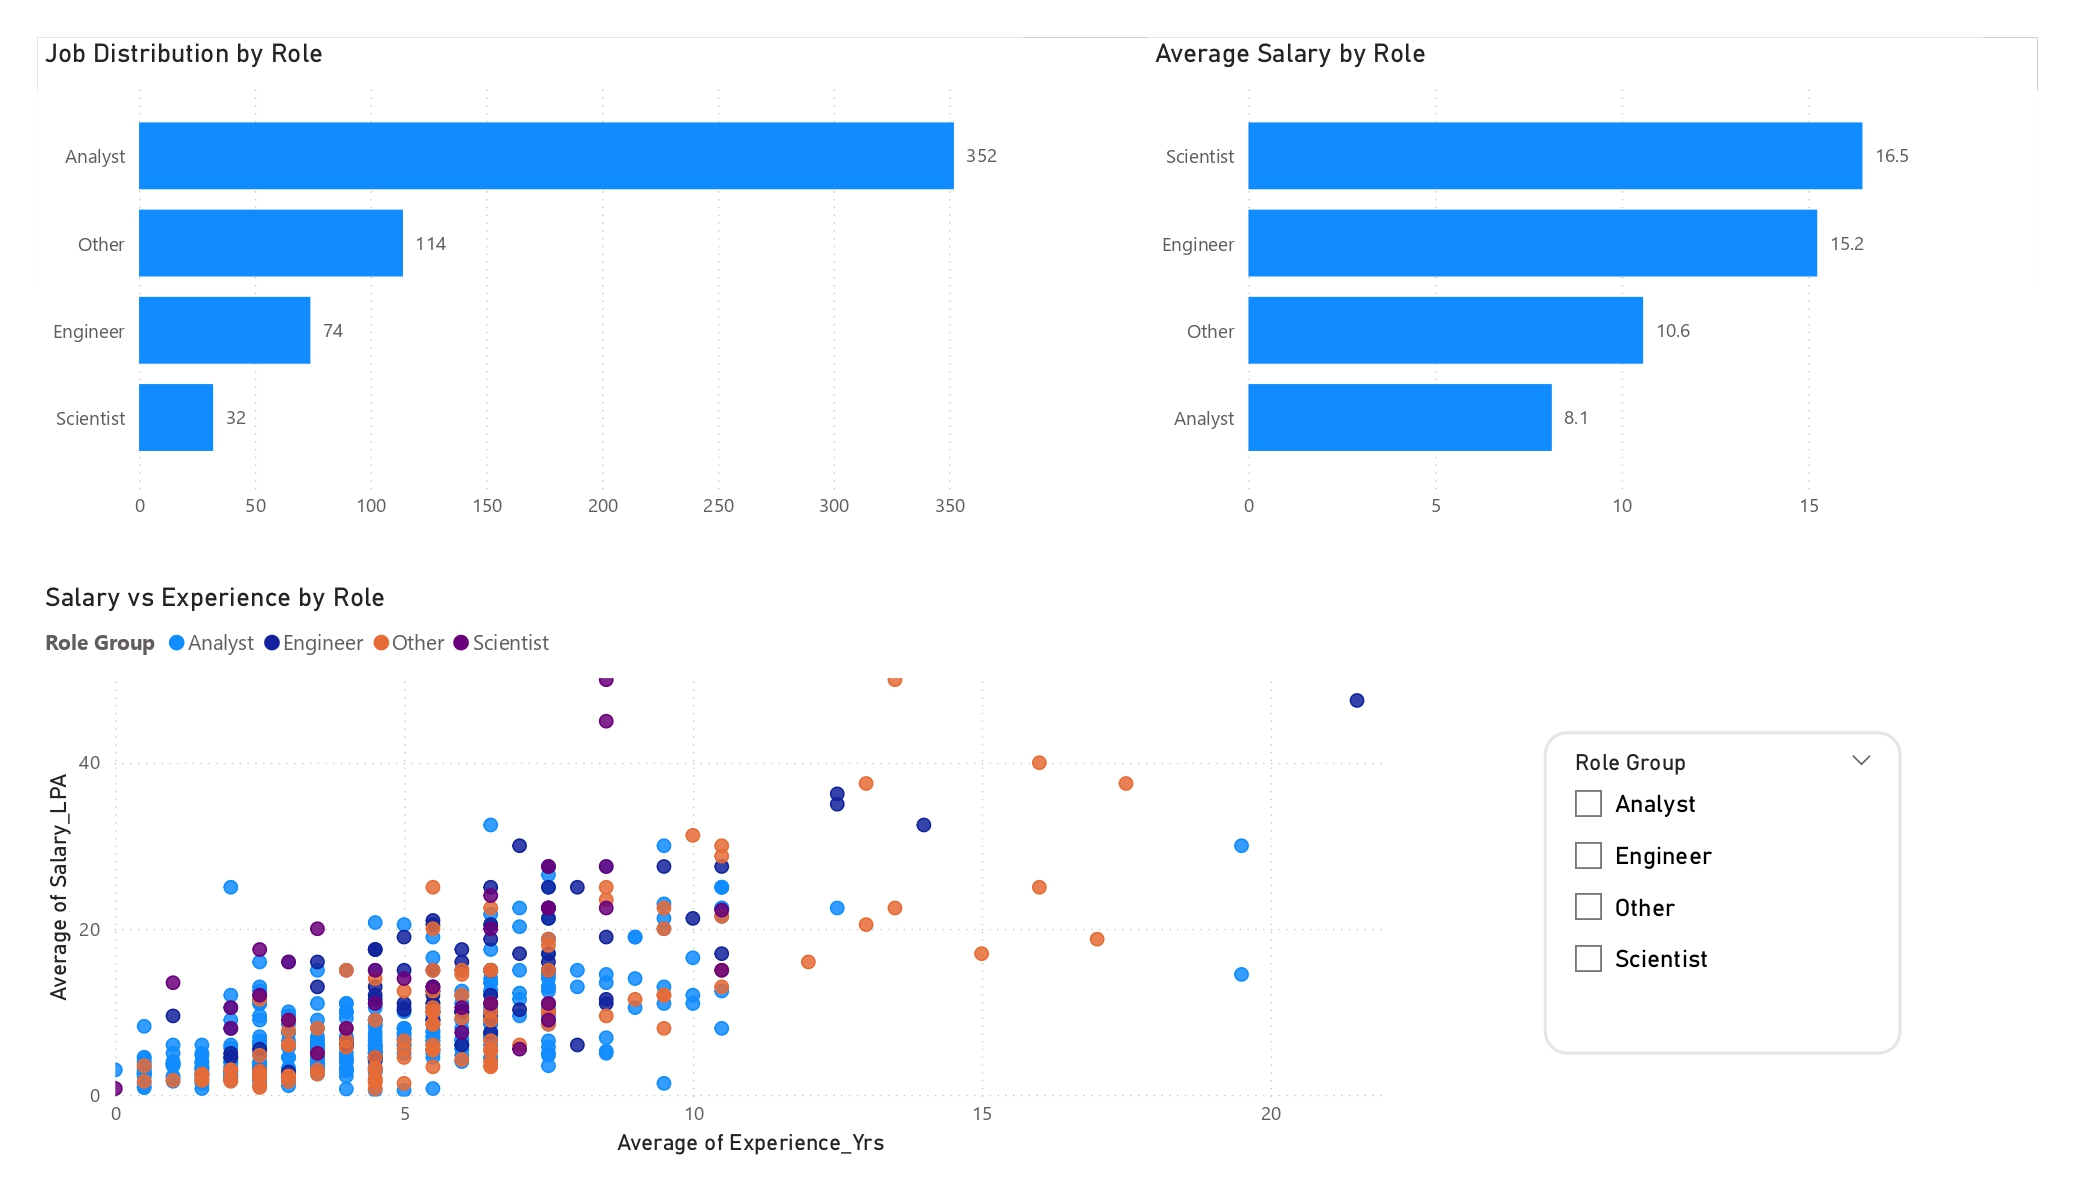

This screenshot's page, from the dashboard's own definition file:
{"tool":"powerbi","page":{"name":"Roles & Experience","canvas":[1280,720],"ordinal":1},"visuals":[{"type":"clusteredBarChart","title":"Job Distribution by Role","fields":{"Category":["FactJobs.Role Group"],"Y":["FactJobSkills.Total Job Postings"]},"box":[0,0,631.2,317.5],"z":0},{"type":"scatterChart","title":"Salary vs Experience by Role","fields":{"X":["Avg(FactJobs.Experience_Yrs)"],"Series":["FactJobs.Role Group"],"Y":["Avg(FactJobs.Salary_LPA)"],"Category":["FactJobs.Job_Id"]},"box":[0,347.5,875,372.5],"z":1000},{"type":"clusteredBarChart","title":"Average Salary by Role","fields":{"Category":["FactJobs.Role Group"],"Y":["Avg(FactJobs.Salary_LPA)"]},"box":[710,0,535,317.5],"z":2000},{"type":"slicer","fields":{"Values":["FactJobs.Role Group"]},"box":[964.3,444.3,228.6,207.1],"z":3000}]}

Visuals, with their boxes in screenshot pixels (x1, y1, x2, y2):
"Job Distribution by Role" clusteredBarChart: x1=38, y1=38, x2=1024, y2=534
"Salary vs Experience by Role" scatterChart: x1=38, y1=580, x2=1405, y2=1162
"Average Salary by Role" clusteredBarChart: x1=1147, y1=38, x2=1983, y2=534
slicer - FactJobs.Role Group: x1=1544, y1=732, x2=1901, y2=1055
